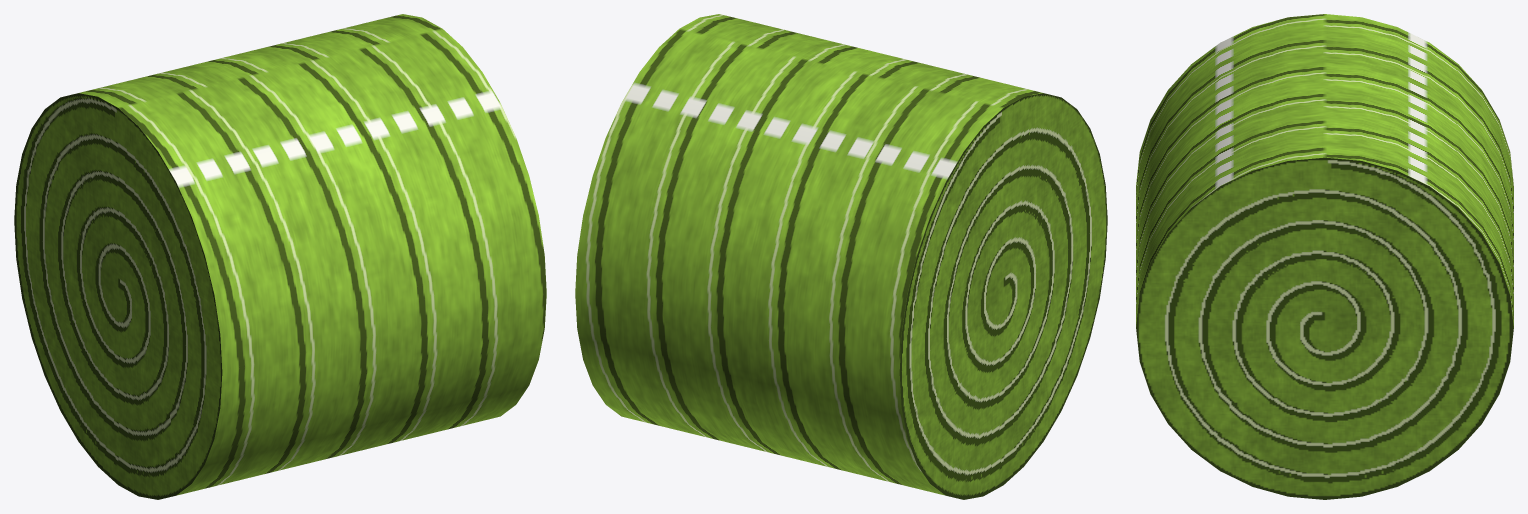
Rendered from Roll_Felt.obj.
The picture shows the model from 3 angles, left to right: view 1: azimuth 30°, elevation 25°; view 2: azimuth 150°, elevation 25°; view 3: azimuth 270°, elevation 25°; orthographic projection. The views are drawn at different scales.
Visible parts, largest first — view 1: Roll_Felt; view 2: Roll_Felt; view 3: Roll_Felt.
Boxes of the visible parts, x1=… form: Roll_Felt: x1=14, y1=14, x2=546, y2=499; Roll_Felt: x1=575, y1=14, x2=1107, y2=499; Roll_Felt: x1=1136, y1=14, x2=1513, y2=499.
Bounding box in the file's own units: 1.8 × 2 × 2.
1 material, 1 textured.
